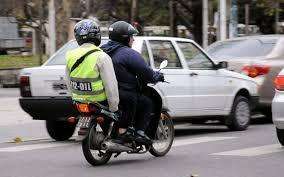Vest: (66, 45, 110, 101)
